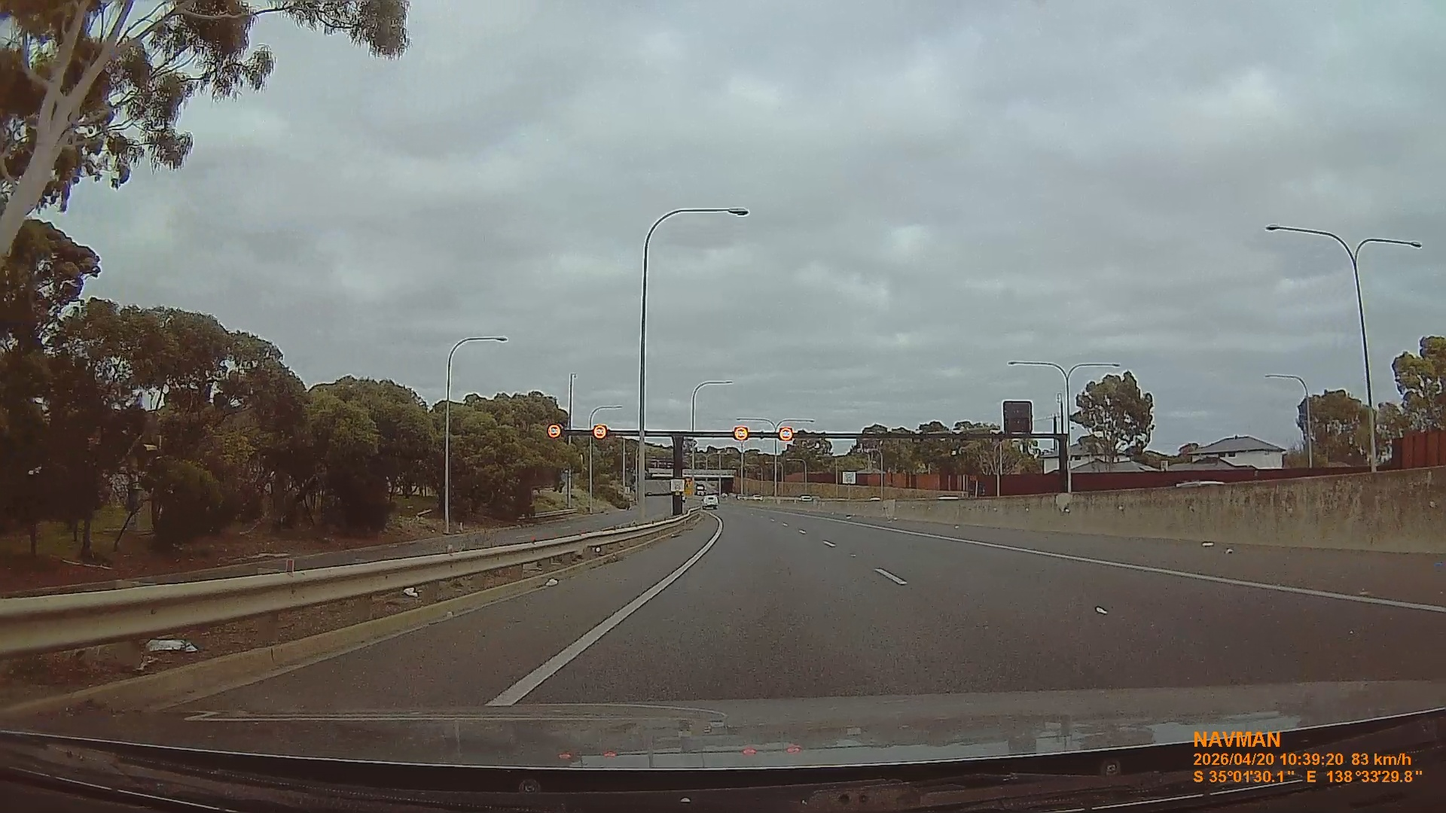road barriers: (4, 512, 670, 653), (821, 468, 1445, 553)
